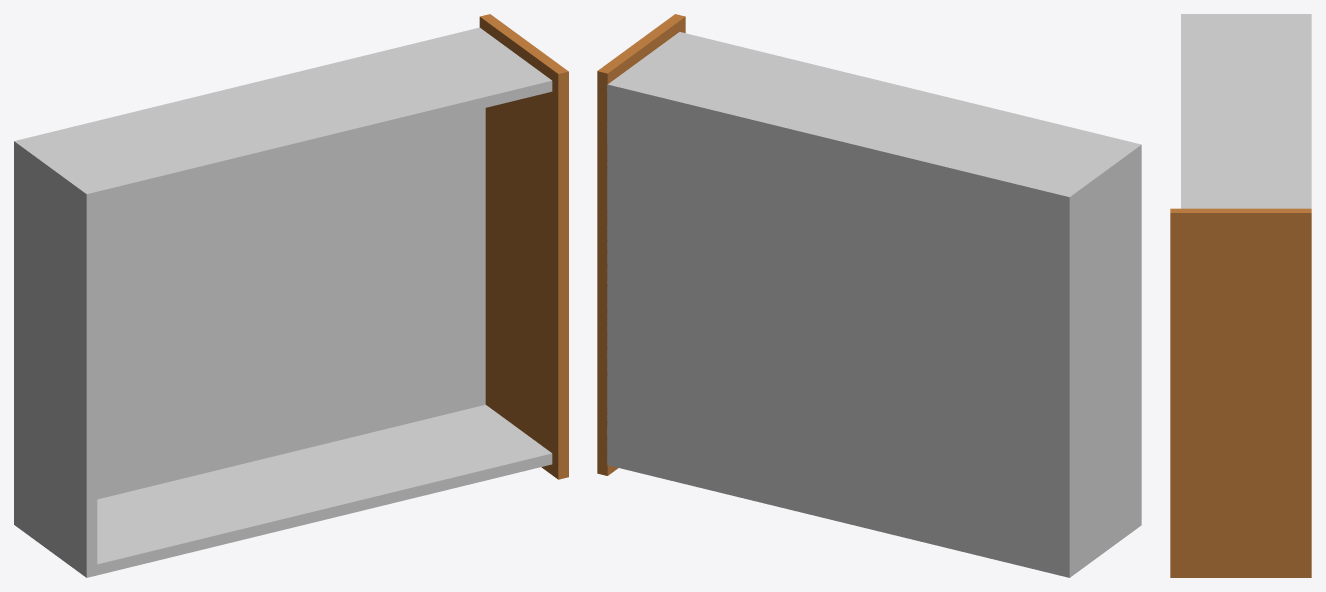
Rendered from AUDIO_SHELF-BODYSET4_link_mesh.dae.
The picture shows the model from 3 angles, left to right: view 1: azimuth 30°, elevation 25°; view 2: azimuth 150°, elevation 25°; view 3: azimuth 270°, elevation 25°; orthographic projection. The views are drawn at different scales.
Parts seen in each view (by area): view 1: AUDIO_SHELF-BODYSET4_link (×2); view 2: AUDIO_SHELF-BODYSET4_link (×2); view 3: AUDIO_SHELF-BODYSET4_link (×2).
Boxes of the visible parts, x1,y1,x2,y2 form: AUDIO_SHELF-BODYSET4_link (×2): [14, 14, 568, 577]; AUDIO_SHELF-BODYSET4_link (×2): [597, 14, 1141, 577]; AUDIO_SHELF-BODYSET4_link (×2): [1170, 14, 1311, 577].
Size of the model in its own units: 0.4545 by 0.37 by 0.13.
